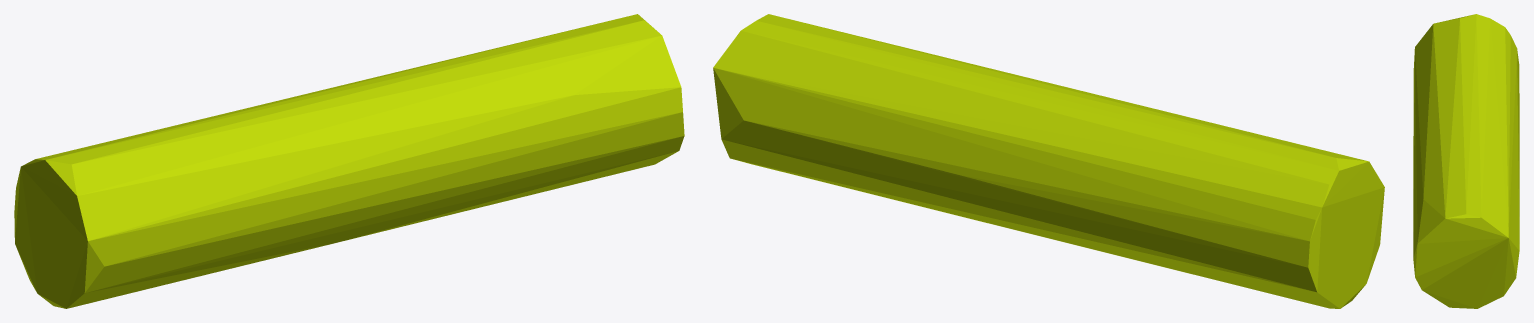
Rendered from tarsus_convex_piece_000.obj.
The picture shows the model from 3 angles, left to right: view 1: azimuth 30°, elevation 25°; view 2: azimuth 150°, elevation 25°; view 3: azimuth 270°, elevation 25°; orthographic projection. The views are drawn at different scales.
Size of the model in its own units: 0.1739 by 0.0378 by 0.0379.
